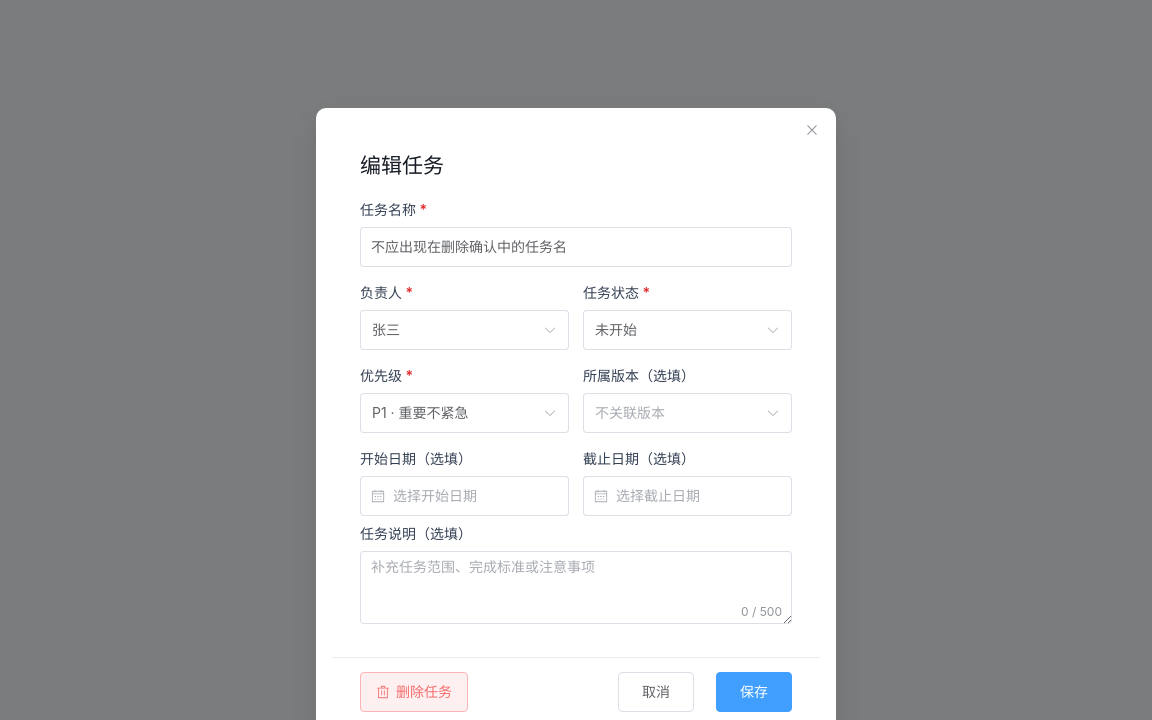
Scenario: TaskDialog › uses a generic permanent-delete confirmation without repeating the task name
Step 1. Click the button "删除任务" → click(414, 692), box x1=360 y1=672 x2=468 y2=712
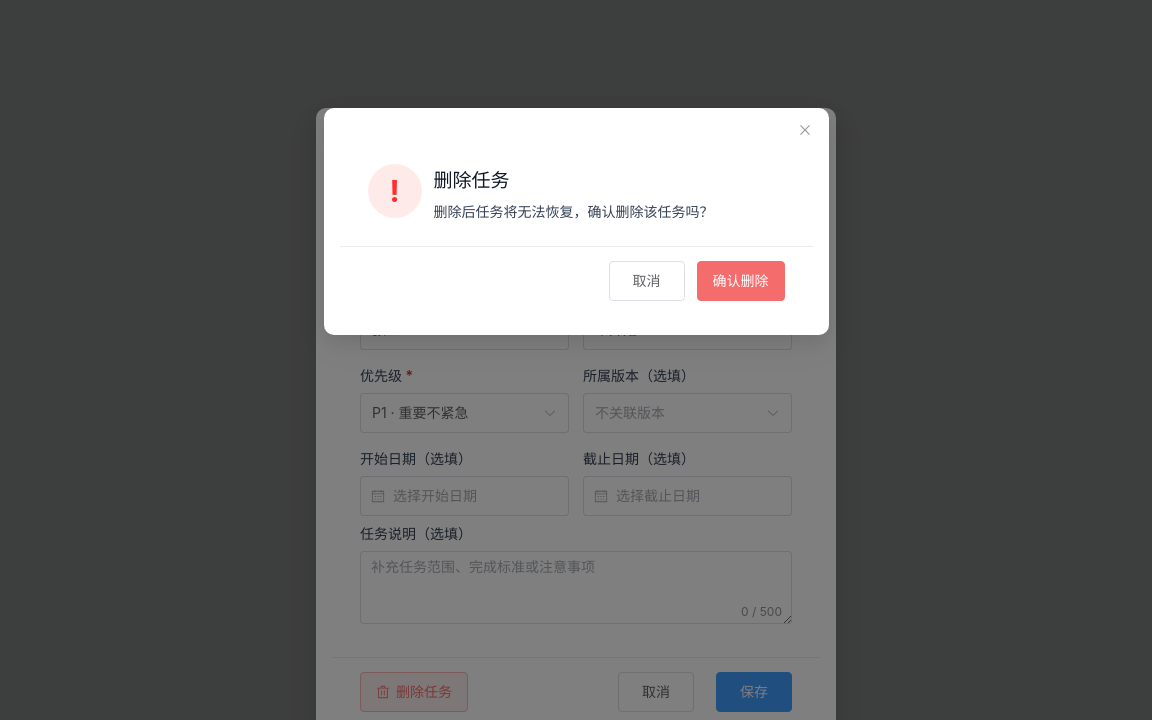
Expected: the element with class "task-delete-dialog" does not show "不应出现在删除确认中的任务名"
Expected: the element with class "task-delete-dialog" shows "删除后任务将无法恢复", x1=434 y1=203 x2=714 y2=220
